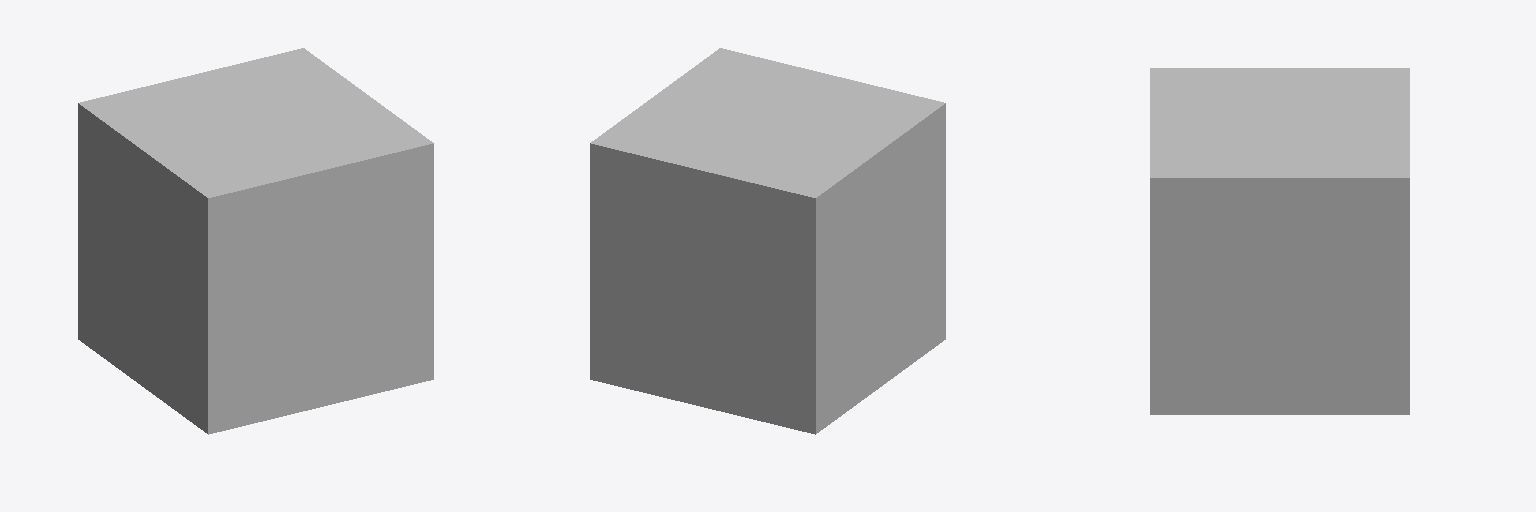
Rendered from normal_2.obj.
3 renders of one model, left to right at view 1: azimuth 30°, elevation 25°; view 2: azimuth 150°, elevation 25°; view 3: azimuth 270°, elevation 25°, orthographic.
Visible parts, largest first — view 1: Cube.001_Cube.000; view 2: Cube.001_Cube.000; view 3: Cube.001_Cube.000.
Boxes of the visible parts, x1,y1,x2,y2 form: Cube.001_Cube.000: [78, 48, 433, 434]; Cube.001_Cube.000: [590, 48, 945, 434]; Cube.001_Cube.000: [1150, 68, 1409, 414].
Size of the model in its own units: 1 by 1.12 by 1.